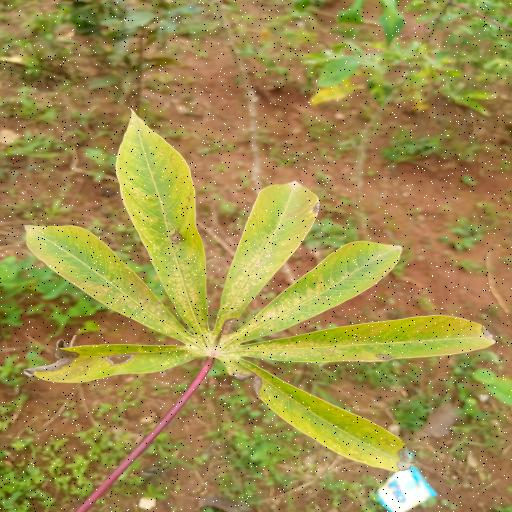Cassava_Mosaic: (20, 106, 498, 475)
